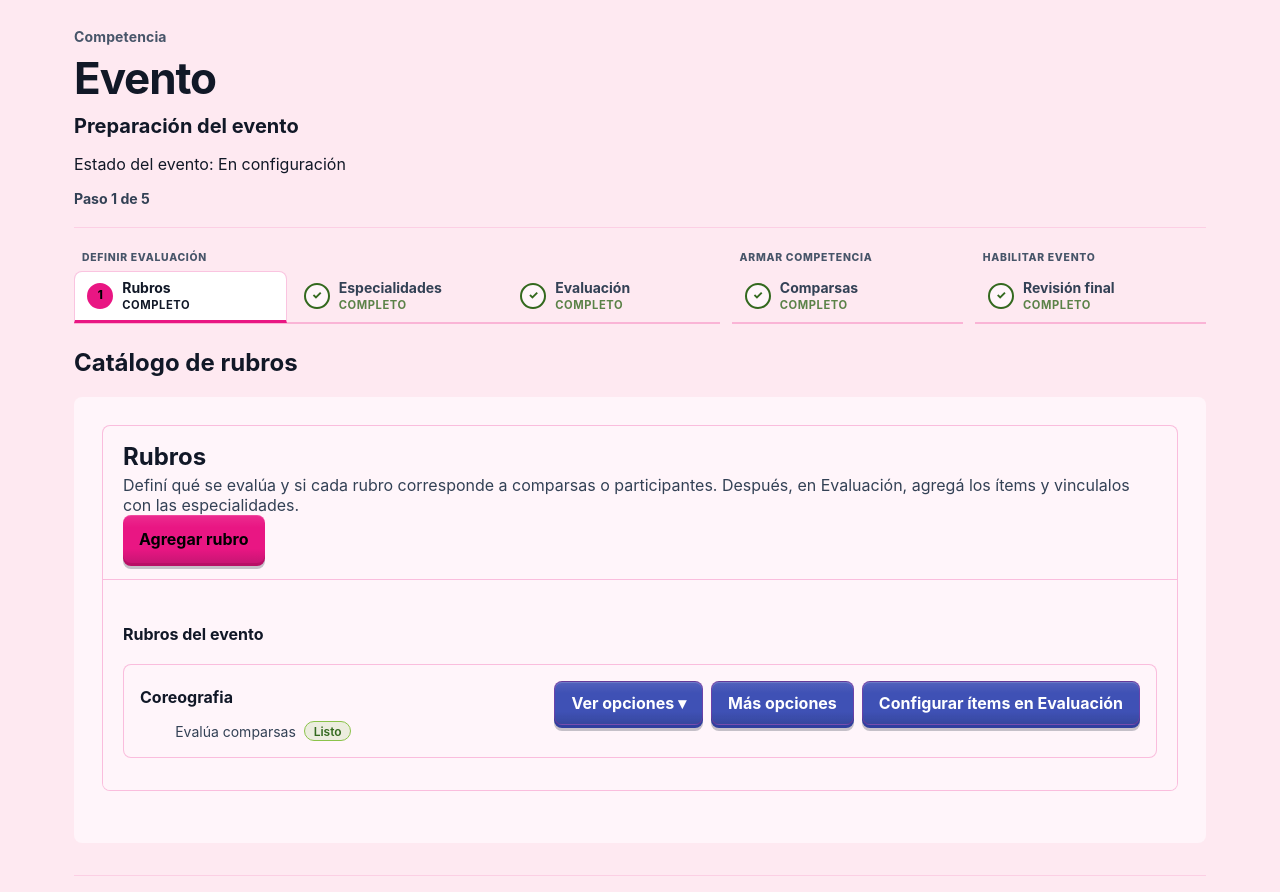
AdminCompetenciaPage › explica en opciones visibles quién recibe puntos y qué regla aplica
Check: the button "Crear rubro" is not shown
Click the button "Agregar rubro" at [194, 539], box [123,515,264,563]
(page scrolled)
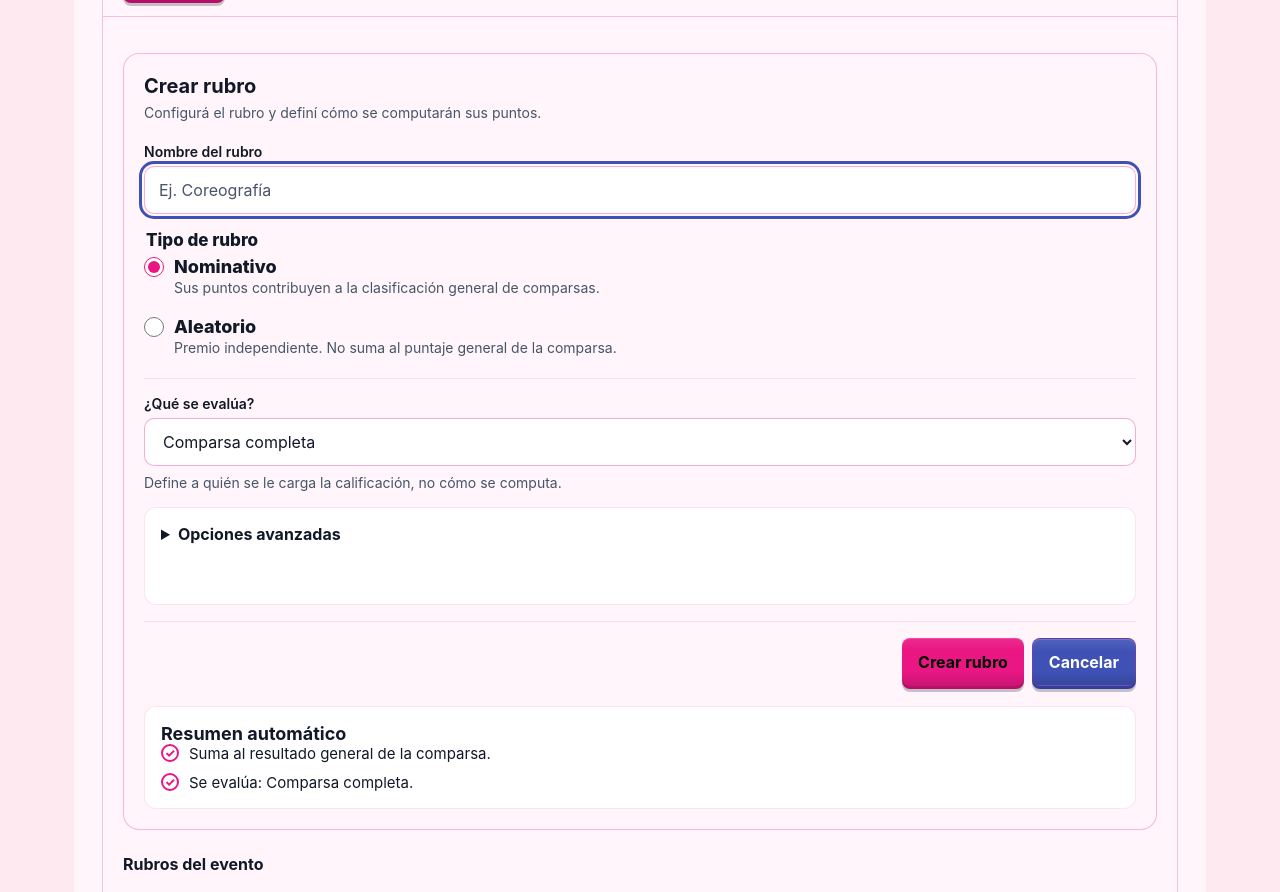
Check: the text "Tipo de rubro" is shown, box [144,230,260,250]
Check: the text "¿Qué se evalúa?" is shown, box [144,395,1136,466]
Check: the text "Sus puntos contribuyen a la clasificación general de comparsas." is shown, box [174,279,600,296]
Select "Participante nominado" in the dropdown labelled "¿Qué se evalúa?" at [640, 442], box [144,418,1136,466]
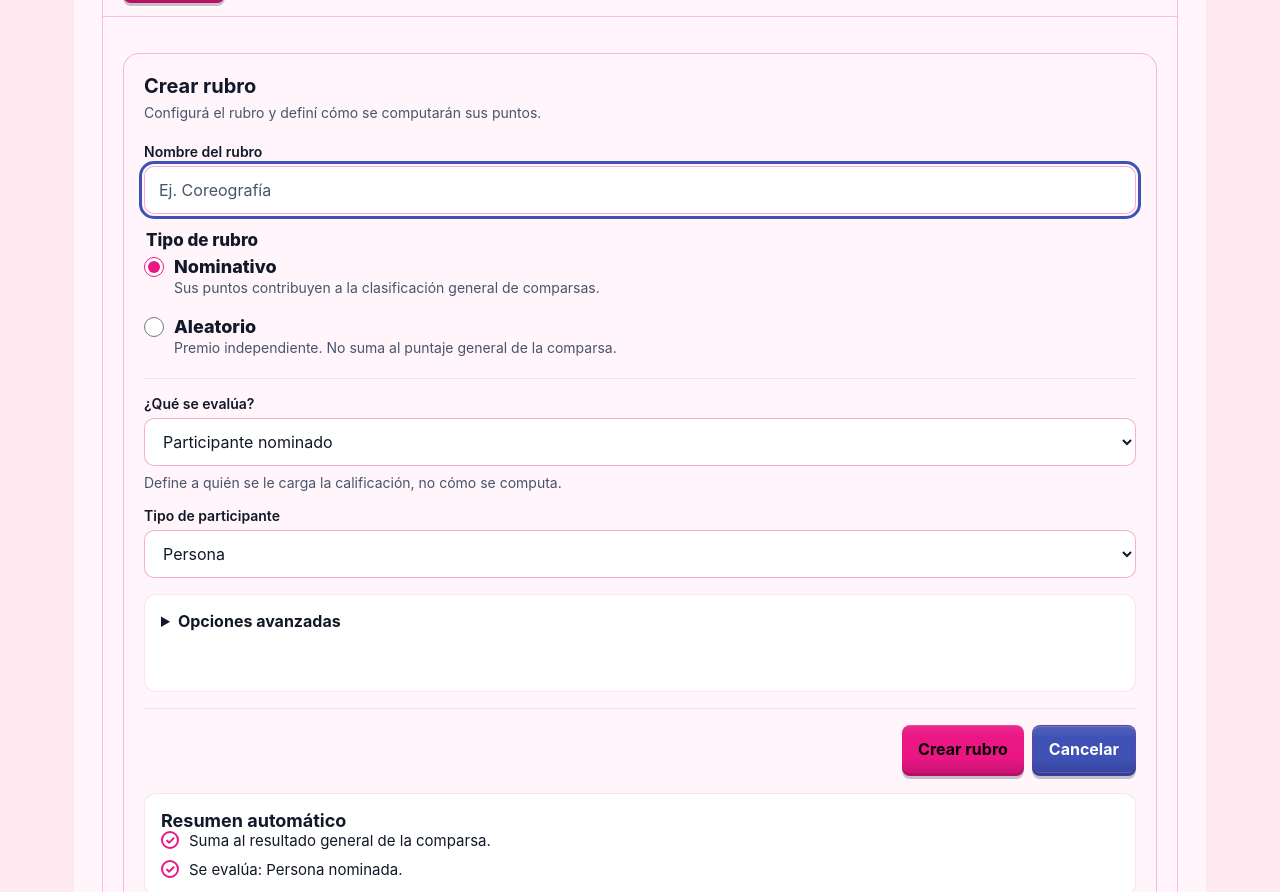
Check: the dropdown labelled "Tipo de participante" shows "Persona", box [144,530,1136,578]
Check: the list item "✓ Se evalúa: Persona nominada." is shown, box [161,860,402,879]
Select "Comparsa completa" in the dropdown labelled "¿Qué se evalúa?" at [640, 442], box [144,418,1136,466]
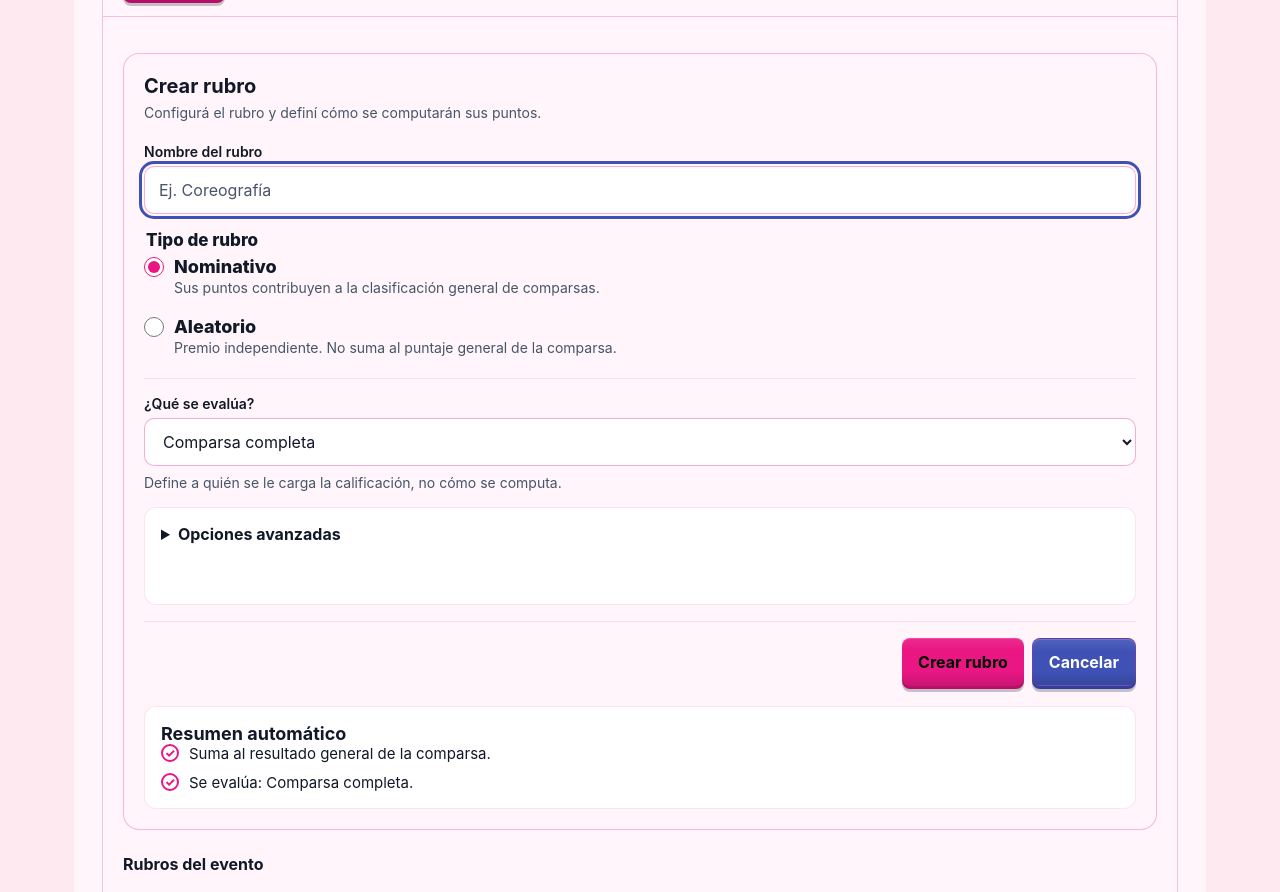
Check: the label labelled "Tipo de participante" is gone
